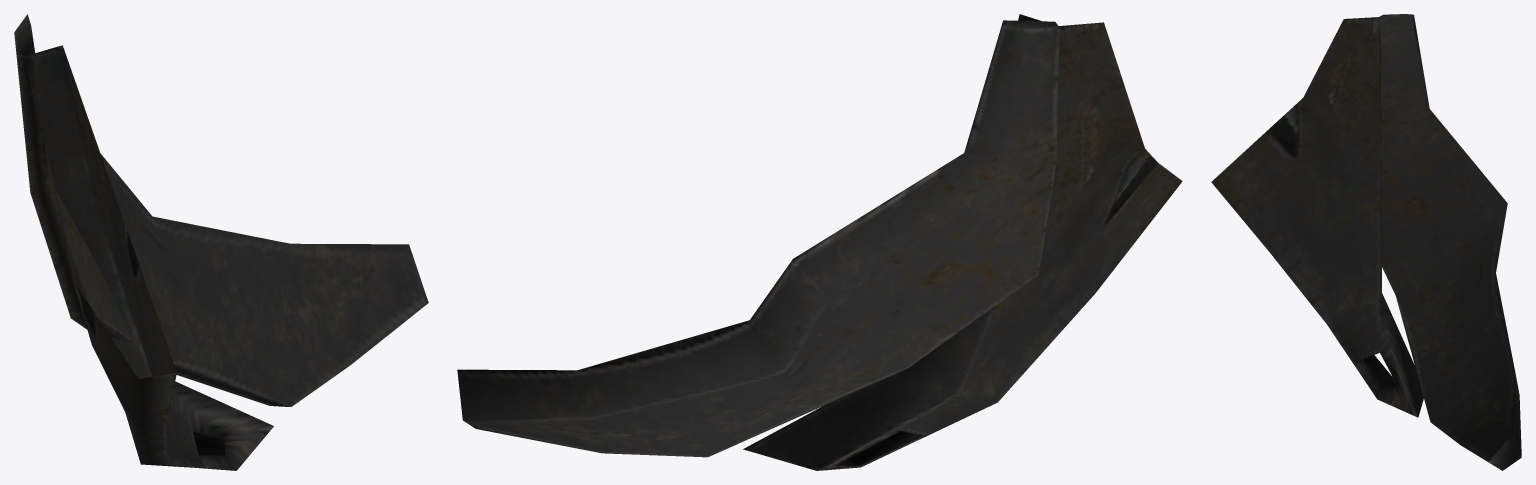
Rendered from armor_chest_low_left.dae.
The picture shows the model from 3 angles, left to right: view 1: azimuth 30°, elevation 25°; view 2: azimuth 150°, elevation 25°; view 3: azimuth 270°, elevation 25°; orthographic projection. The views are drawn at different scales.
Parts seen in each view (by area): view 1: armor_chest_low_left; view 2: armor_chest_low_left; view 3: armor_chest_low_left.
Boxes of the visible parts, x1,y1,x2,y2 form: armor_chest_low_left: (14, 14, 428, 470); armor_chest_low_left: (457, 14, 1182, 470); armor_chest_low_left: (1211, 14, 1521, 470).
Bounding box in the file's own units: 0.4258 × 0.337 × 0.3891.
1 material, 1 textured.
